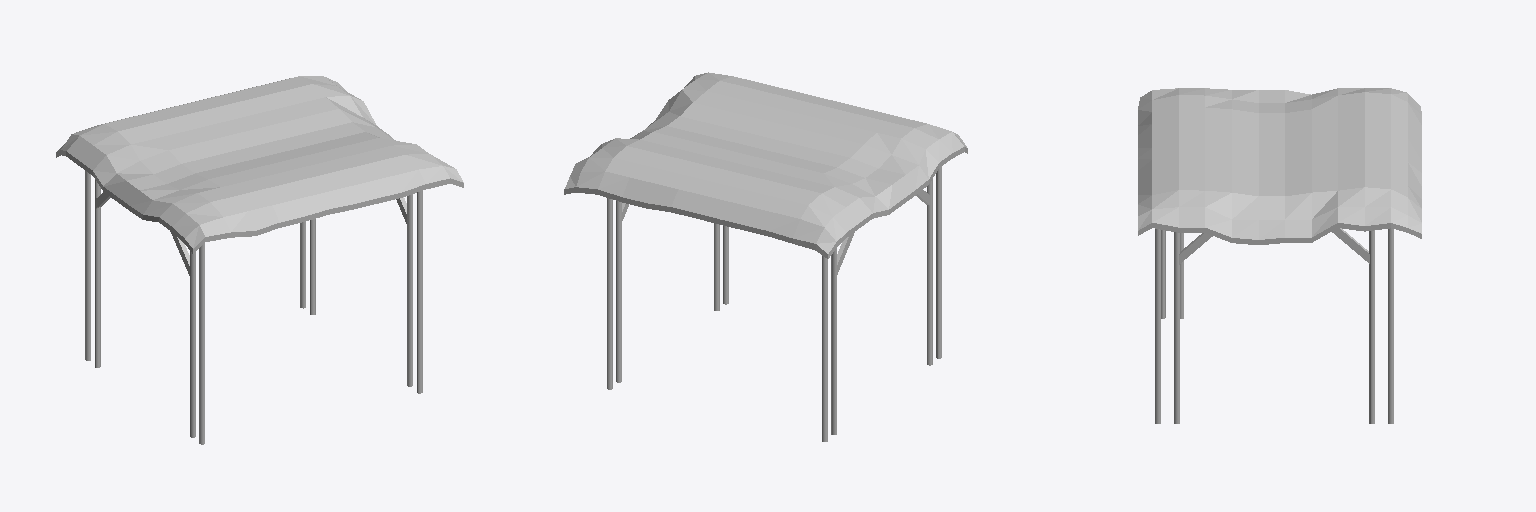
Rendered from TENDA.obj.
The picture shows the model from 3 angles: view 1: azimuth 30°, elevation 25°; view 2: azimuth 150°, elevation 25°; view 3: azimuth 270°, elevation 25°; orthographic projection.
Parts seen in each view (by area): view 1: TENDA_MESH; view 2: TENDA_MESH; view 3: TENDA_MESH.
Part boxes in pixels (bbox=[...]): TENDA_MESH: bbox=[56, 76, 463, 444]; TENDA_MESH: bbox=[564, 72, 967, 441]; TENDA_MESH: bbox=[1138, 88, 1421, 423].
Bounding box in the file's own units: 5.6 × 4.58 × 5.05.